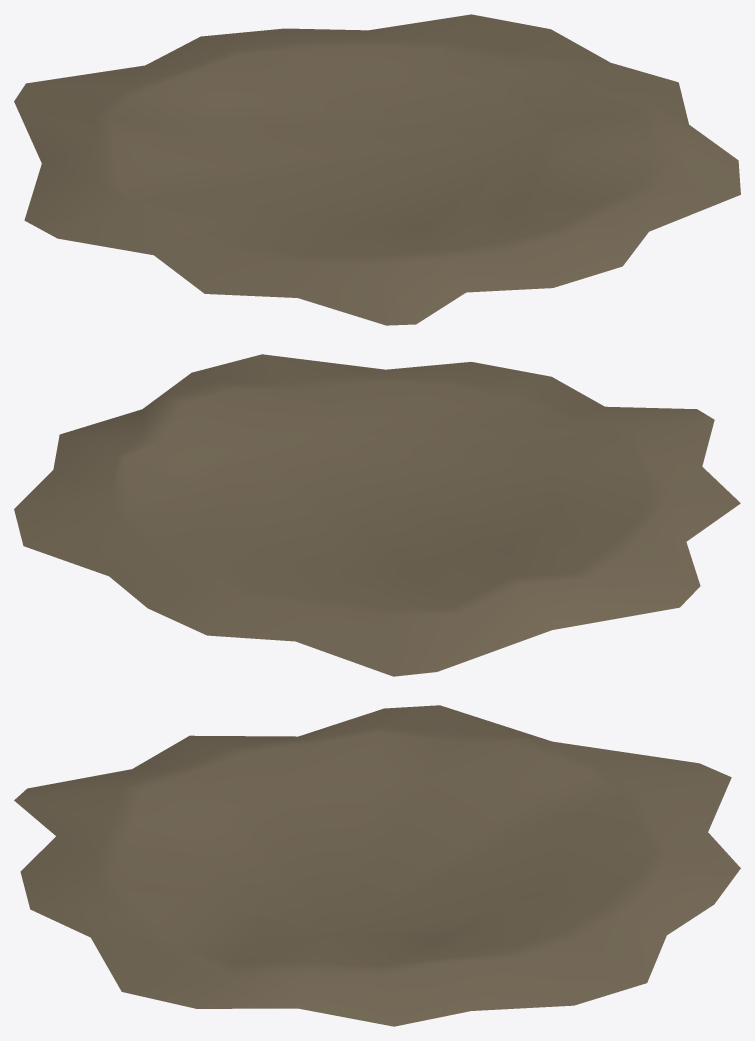
Rendered from dixing5.FBX.
3 views of the same model, one above another, from view 1: azimuth 30°, elevation 25°; view 2: azimuth 150°, elevation 25°; view 3: azimuth 270°, elevation 25° (orthographic). The views are drawn at different scales.
Visible parts, largest first — view 1: Crater002; view 2: Crater002; view 3: Crater002.
Boxes of the visible parts, <box> form: Crater002: <box>14,14,740,325</box>; Crater002: <box>14,354,740,676</box>; Crater002: <box>14,705,740,1026</box>.
Size of the model in its own units: 6.87 by 0.26 by 6.56.
